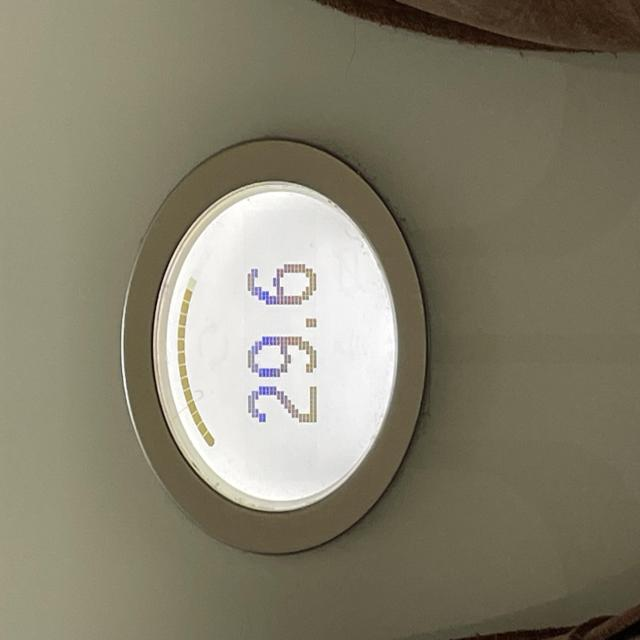ws: (120, 144, 429, 557)
